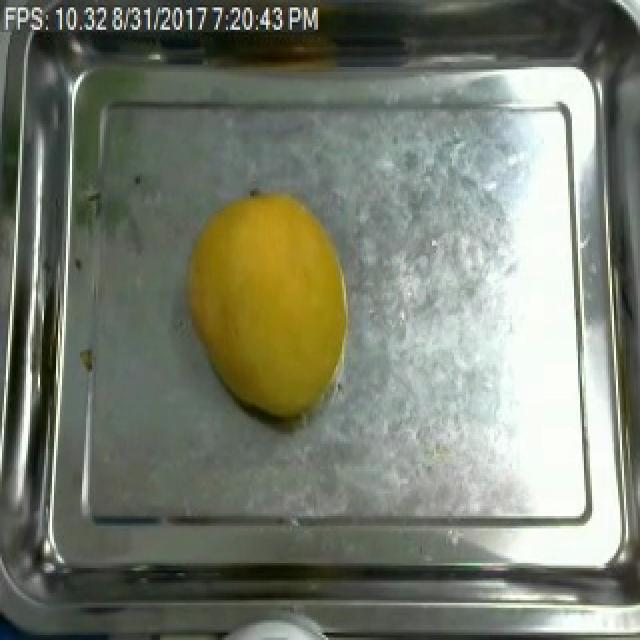fruit: (168, 179, 362, 439)
